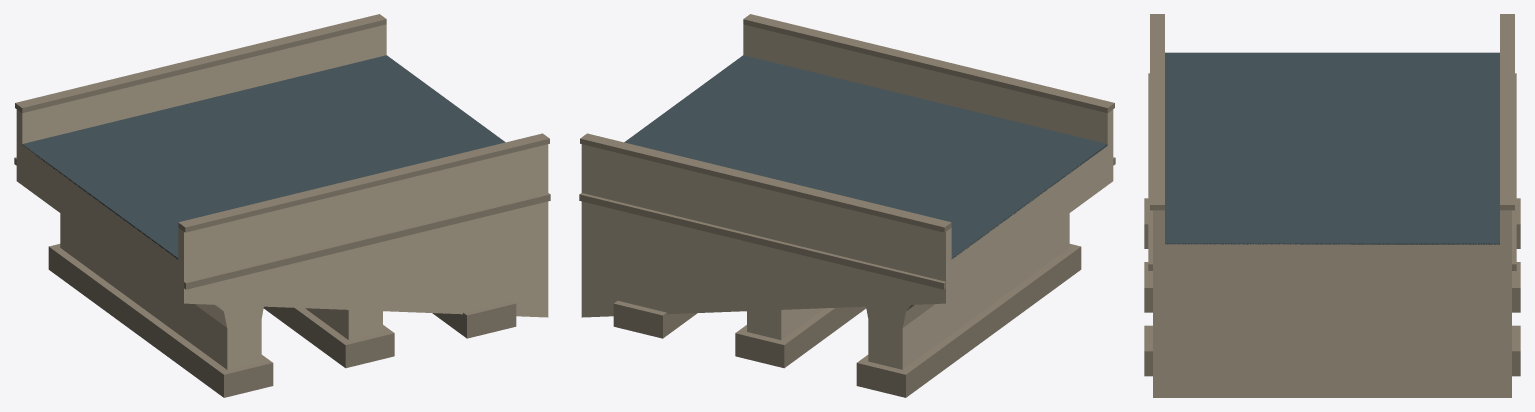
Rendered from most_akvadukt.glb.
3 views of the same model, side by side, from view 1: azimuth 30°, elevation 25°; view 2: azimuth 150°, elevation 25°; view 3: azimuth 270°, elevation 25° (orthographic). The views are drawn at different scales.
Visible parts, largest first — view 1: stred, hlava_svah, pilir_pata, pilir; view 2: stred, hlava_svah, pilir_pata, pilir; view 3: stred, hlava_svah, pilir, pilir_pata.
Part boxes in pixels (x1,y1,x2,y2): stred: (14,14,550,289); hlava_svah: (16,166,548,317); pilir_pata: (48,244,516,397); pilir: (16,141,382,369); stred: (579,14,1115,289); hlava_svah: (581,166,1113,317); pilir_pata: (613,244,1081,397); pilir: (747,158,1089,369); stred: (1148,14,1516,270); hlava_svah: (1153,271,1511,397); pilir: (1153,244,1511,276); pilir_pata: (1144,198,1520,376).
Size of the model in its own units: 14.84 by 7 by 12.36.
1 material, 1 textured.
